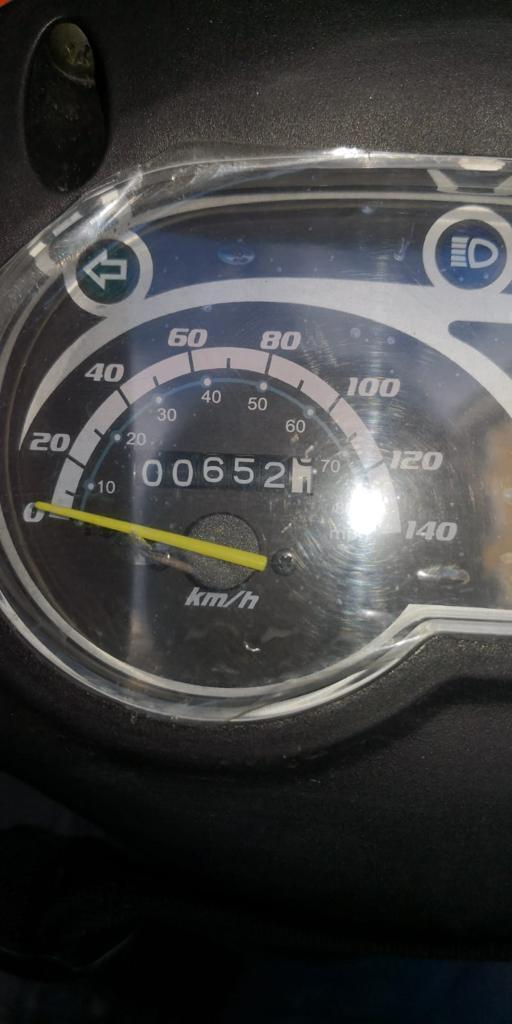0: (141, 458, 163, 487), (171, 458, 193, 487)
1: (301, 475, 308, 497)
2: (262, 461, 286, 488)
5: (233, 457, 255, 484)
6: (202, 456, 225, 483)
odometer: (128, 446, 317, 497)
